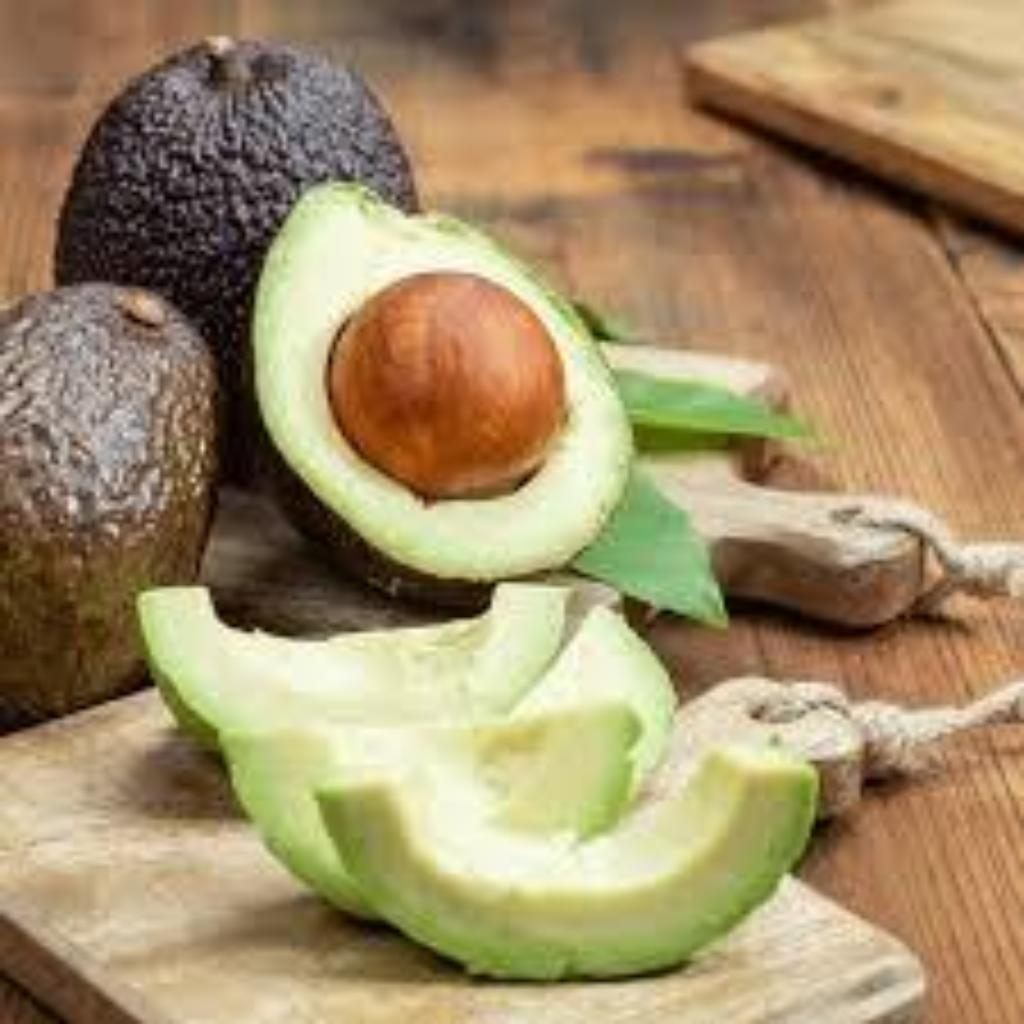antracnosis_fruto: (0, 273, 214, 587), (155, 91, 346, 173)
